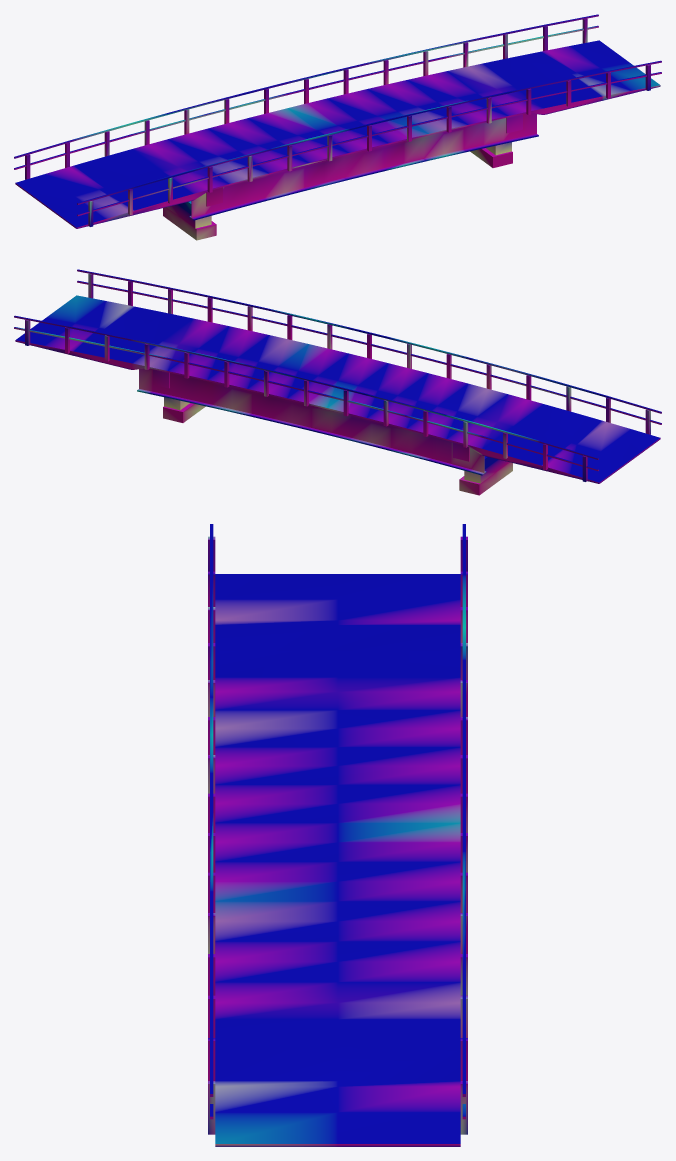
The model's file is bridge_steel.glb.
3 views of the same model, one above another, from view 1: azimuth 30°, elevation 25°; view 2: azimuth 150°, elevation 25°; view 3: azimuth 270°, elevation 25° (orthographic). The views are drawn at different scales.
Parts seen in each view (by area): view 1: bridge_steel; view 2: bridge_steel; view 3: bridge_steel.
Part boxes in pixels (x1,y1,x2,y2): bridge_steel: (14, 14, 661, 240); bridge_steel: (14, 269, 661, 495); bridge_steel: (208, 524, 467, 1146).
Bounding box in the file's own units: 22 × 3.2 × 4.24.
